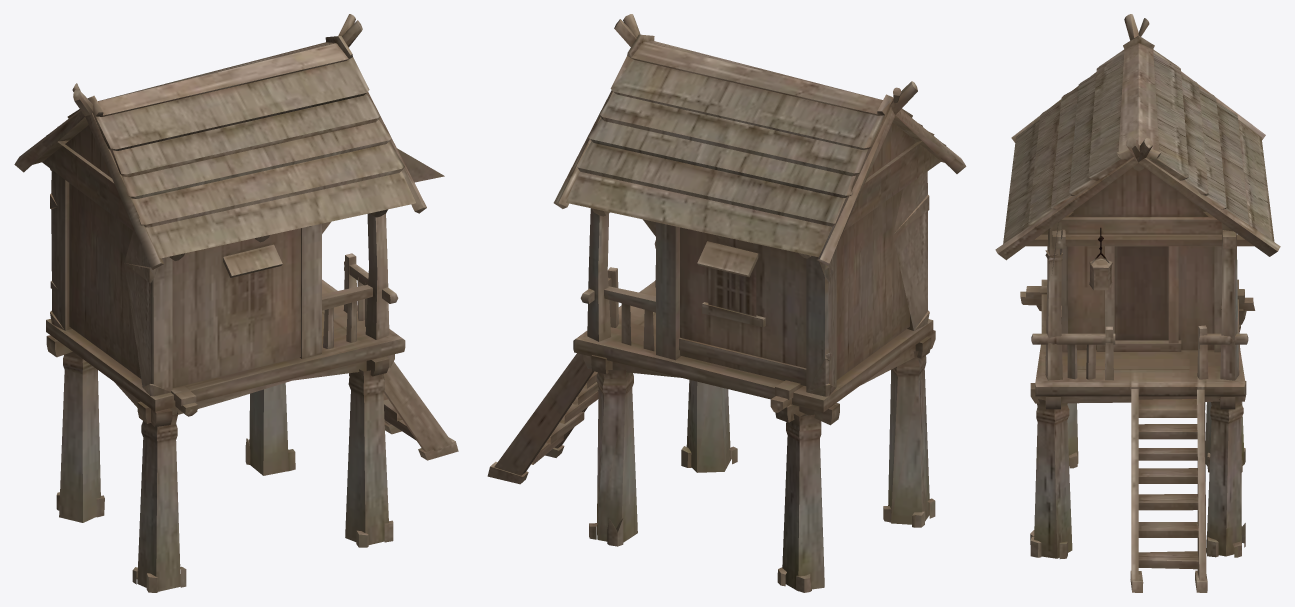
The model's file is biome_home__variant__v3.glb.
3 renders of one model, left to right at view 1: azimuth 30°, elevation 25°; view 2: azimuth 150°, elevation 25°; view 3: azimuth 270°, elevation 25°, orthographic. The views are drawn at different scales.
Parts seen in each view (by area): view 1: tripo_node_fb91f9bc-dda7-4df9-bbf1-346c4051fa6f; view 2: tripo_node_fb91f9bc-dda7-4df9-bbf1-346c4051fa6f; view 3: tripo_node_fb91f9bc-dda7-4df9-bbf1-346c4051fa6f.
Part boxes in pixels (x1,y1,x2,y2): tripo_node_fb91f9bc-dda7-4df9-bbf1-346c4051fa6f: [14, 14, 458, 592]; tripo_node_fb91f9bc-dda7-4df9-bbf1-346c4051fa6f: [487, 14, 966, 592]; tripo_node_fb91f9bc-dda7-4df9-bbf1-346c4051fa6f: [995, 14, 1280, 592].
Bounding box in the file's own units: 0.8506 × 1 × 0.6034.
Materials: 1 (1 with a texture image).
